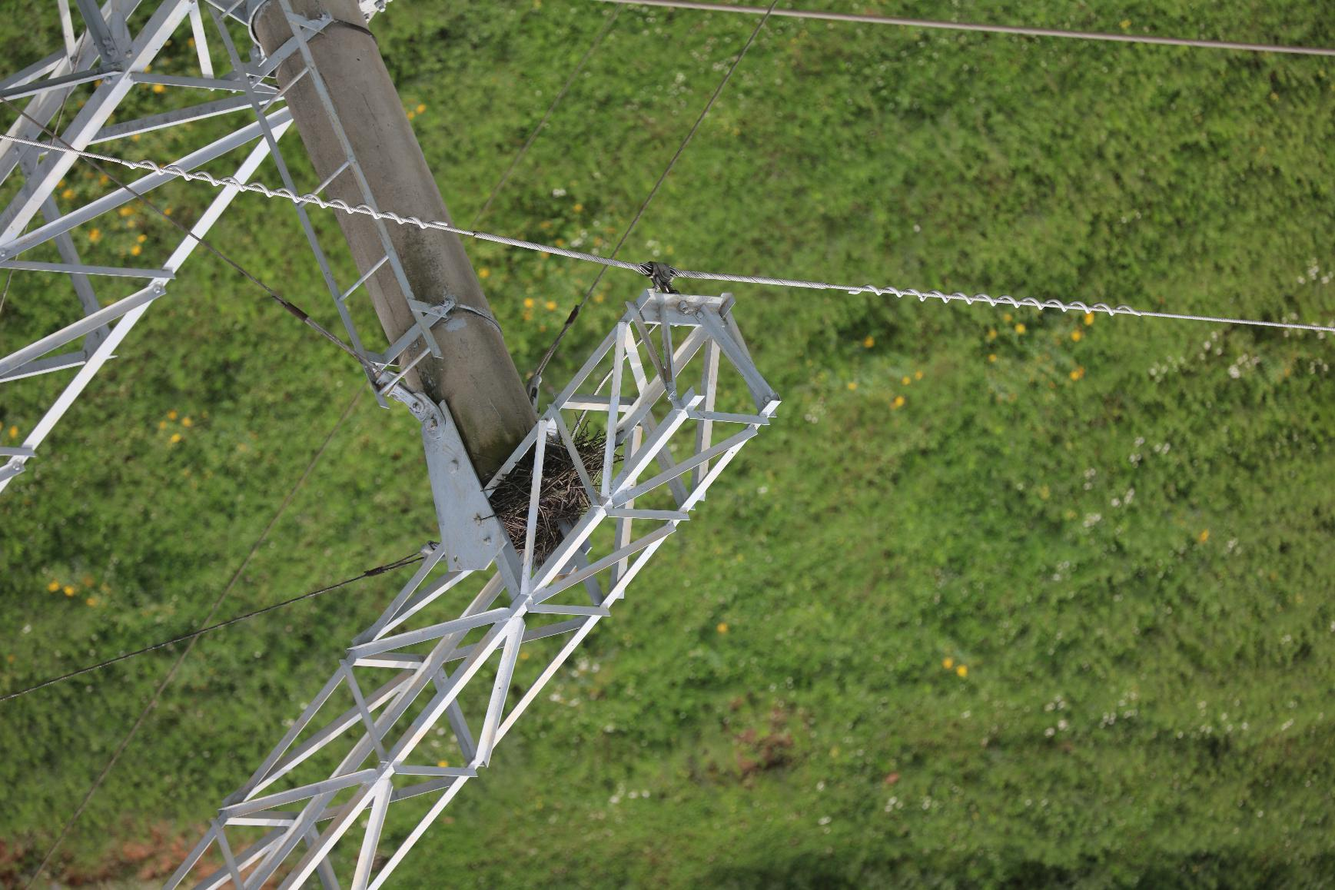nest: (487, 423, 608, 566)
